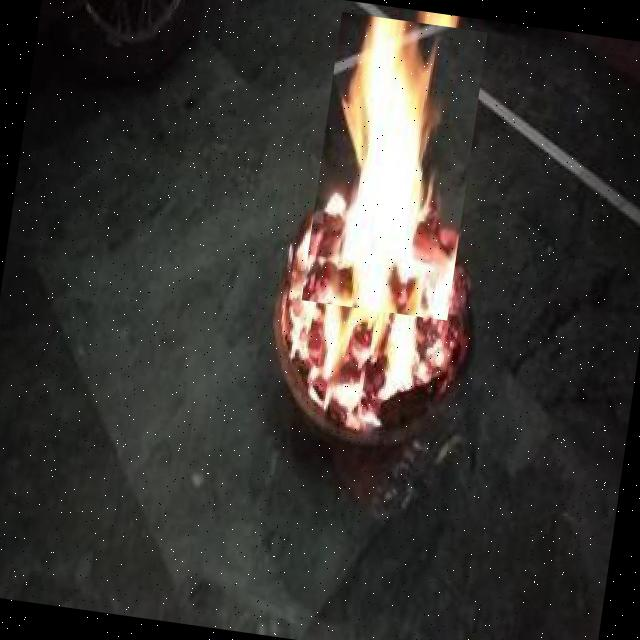fire: (302, 12, 488, 321)
